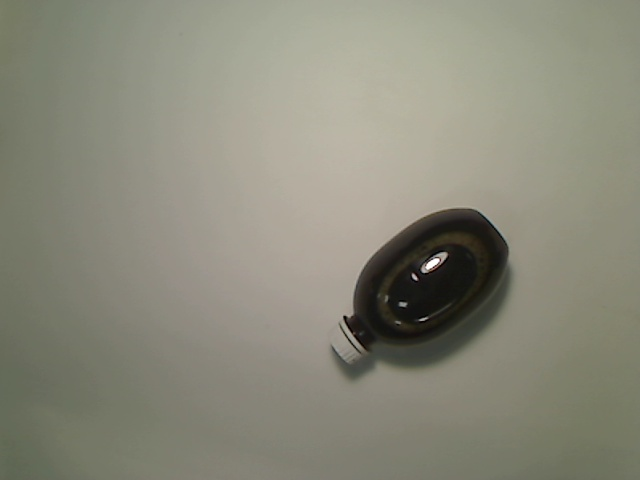plast_bottle: (328, 205, 511, 368)
